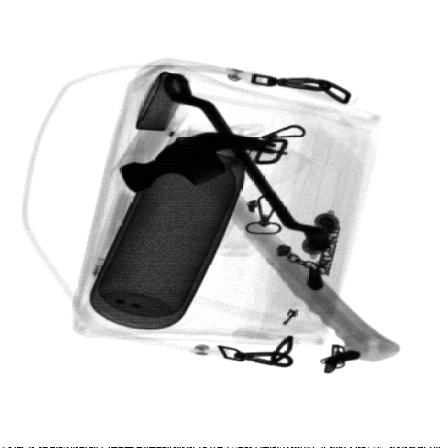Hammer: (118, 131, 399, 362)
Wrench: (164, 72, 333, 251)
